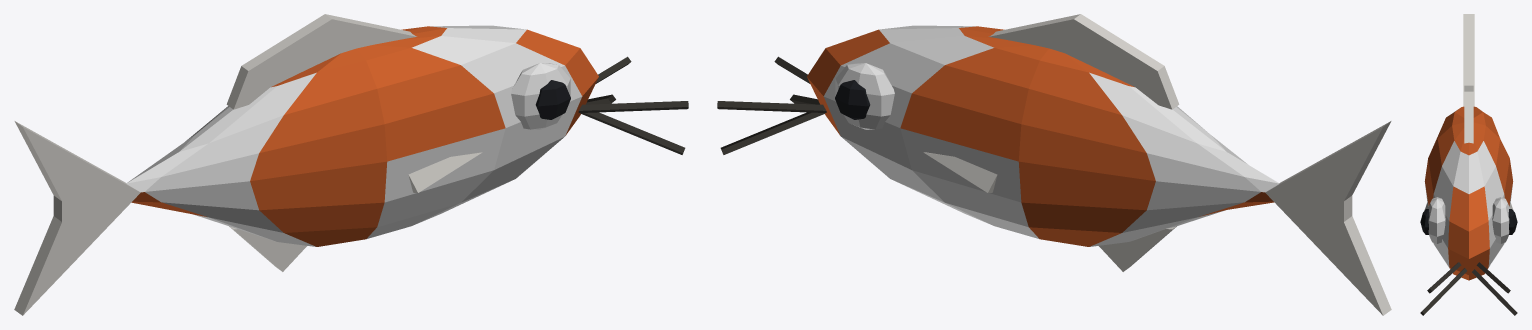
File: fish-koi.glb
3 renders of one model, left to right at view 1: azimuth 30°, elevation 25°; view 2: azimuth 150°, elevation 25°; view 3: azimuth 270°, elevation 25°, orthographic. The views are drawn at different scales.
Parts seen in each view (by area): view 1: fish-koi; view 2: fish-koi; view 3: fish-koi.
Part boxes in pixels (x1=…): fish-koi: x1=14, y1=14, x2=688, y2=315; fish-koi: x1=717, y1=14, x2=1391, y2=315; fish-koi: x1=1420, y1=14, x2=1517, y2=315.
Size of the model in its own units: 1.3 by 0.468 by 0.2651.
